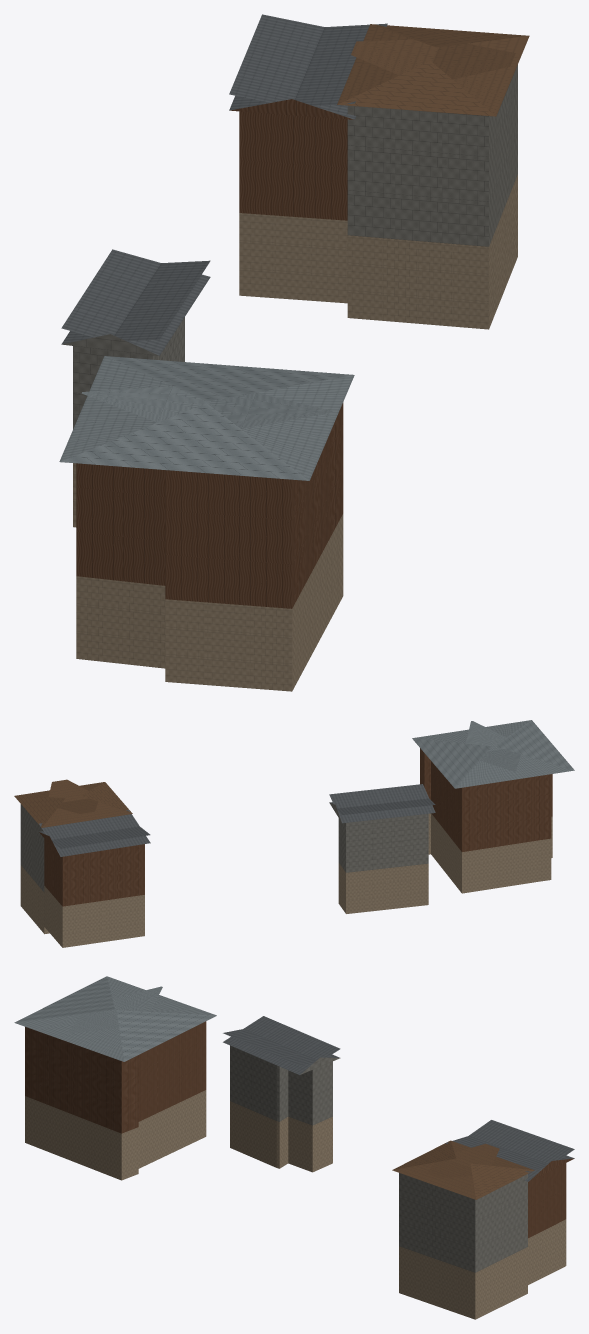
The model's file is bld_c-23_10_548.gltf.
3 renders of one model, top to bottom at view 1: azimuth 30°, elevation 25°; view 2: azimuth 150°, elevation 25°; view 3: azimuth 270°, elevation 25°, orthographic. The views are drawn at different scales.
Parts seen in each view (by area): view 1: bld_c-23_10_548; view 2: bld_c-23_10_548; view 3: bld_c-23_10_548.
Boxes of the visible parts, x1=… form: bld_c-23_10_548: x1=59, y1=14, x2=529, y2=691; bld_c-23_10_548: x1=14, y1=720, x2=574, y2=947; bld_c-23_10_548: x1=14, y1=976, x2=574, y2=1319.
Size of the model in its own units: 51.38 by 14.8 by 55.33.
Materials: 8 (8 with a texture image).
